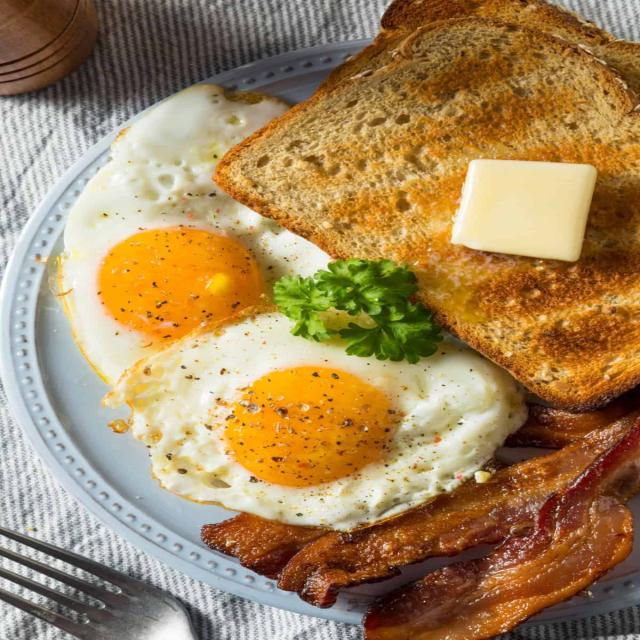Bread: (214, 0, 639, 410)
Egg: (103, 311, 527, 530), (58, 85, 289, 383)
